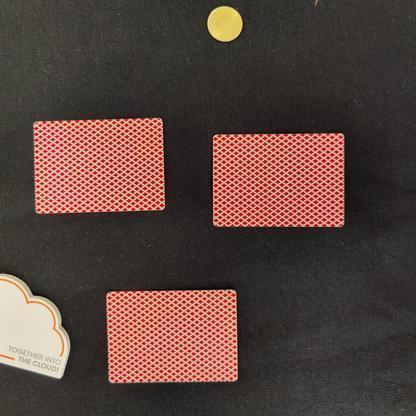card: (21, 109, 178, 225), (200, 124, 362, 236), (93, 279, 249, 391)
